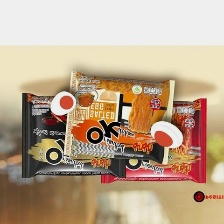snack: (56, 67, 180, 171), (95, 93, 212, 189), (16, 88, 130, 183)
